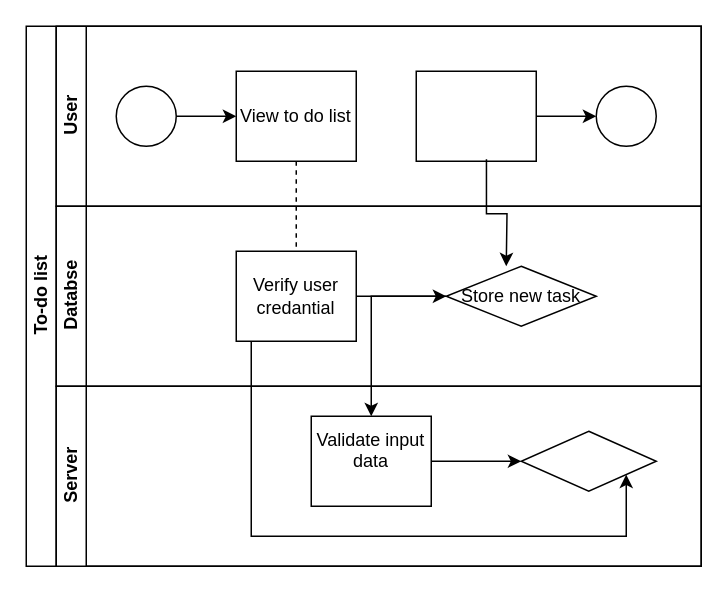
This 728x593 diagram has some shape labels left out. Each missing label, with the centre of its shape:
Create Task: pixel 475 115
Edit or delete: pixel 625 115
Fetch Info: pixel 588 460
Login: pixel 145 115
